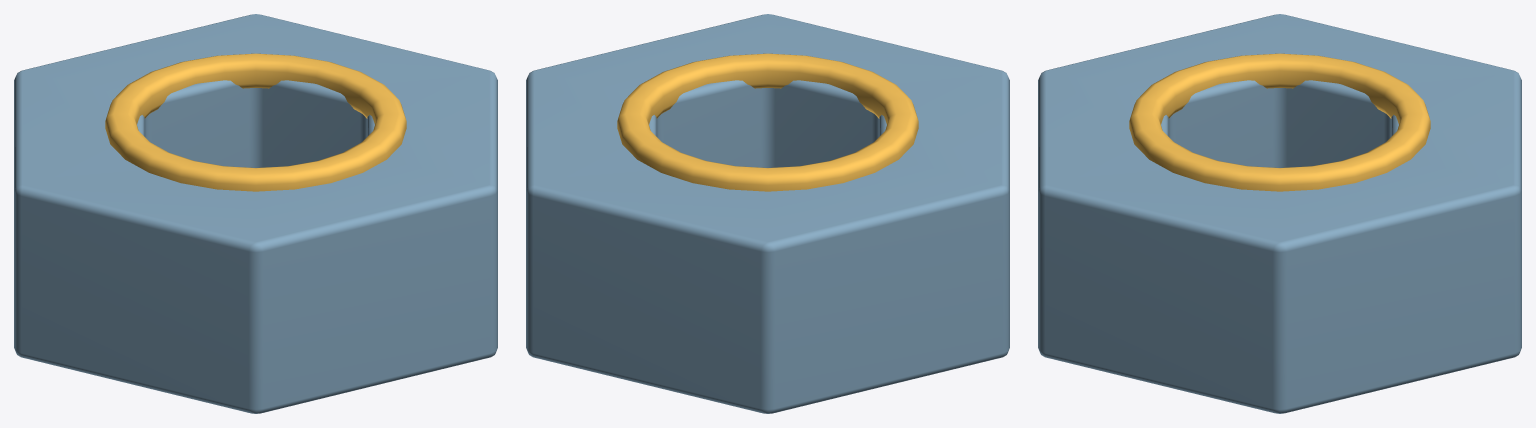
Rendered from Bolt_Nut_M6.fbx.
3 renders of one model, left to right at view 1: azimuth 30°, elevation 25°; view 2: azimuth 150°, elevation 25°; view 3: azimuth 270°, elevation 25°, orthographic.
Visible parts, largest first — view 1: Nut_hex_bore, Nut_inner_lip; view 2: Nut_hex_bore, Nut_inner_lip; view 3: Nut_hex_bore, Nut_inner_lip.
Part boxes in pixels (x1=…): Nut_hex_bore: x1=14, y1=14, x2=497, y2=413; Nut_inner_lip: x1=105, y1=53, x2=406, y2=191; Nut_hex_bore: x1=526, y1=14, x2=1009, y2=413; Nut_inner_lip: x1=617, y1=53, x2=918, y2=191; Nut_hex_bore: x1=1038, y1=14, x2=1521, y2=413; Nut_inner_lip: x1=1129, y1=53, x2=1430, y2=191.
Size of the model in its own units: 99.22 by 36.75 by 86.6.
